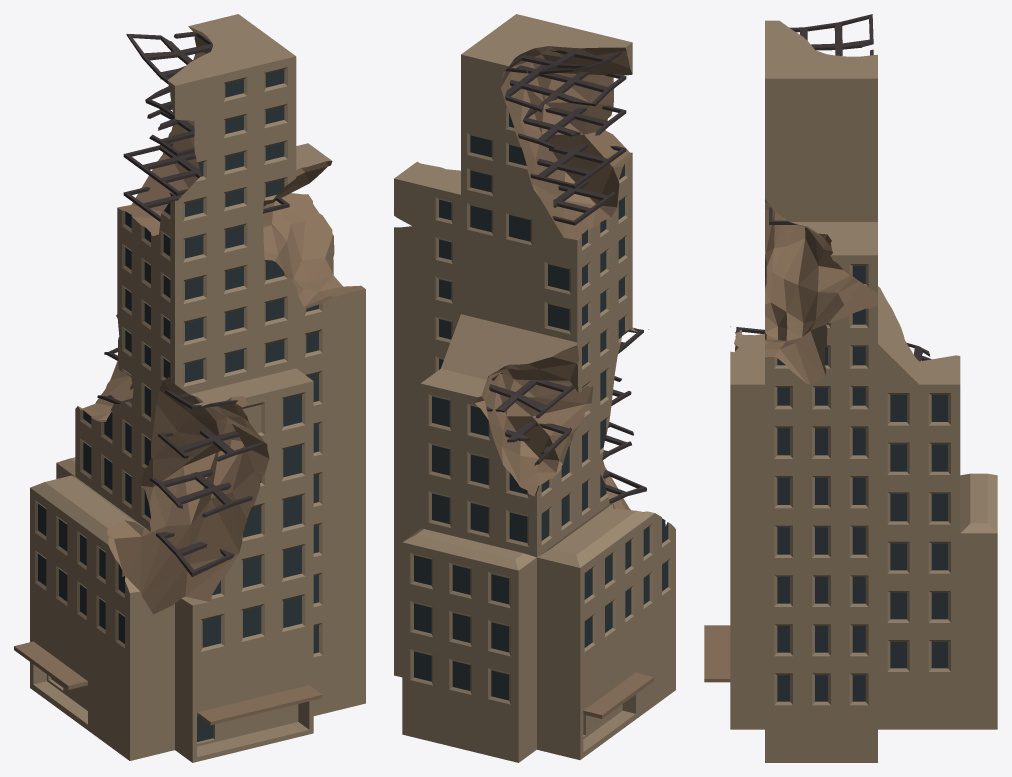
File: LP_PostApoc_BuildingPreset5.fbx
The picture shows the model from 3 angles, left to right: view 1: azimuth 30°, elevation 25°; view 2: azimuth 150°, elevation 25°; view 3: azimuth 270°, elevation 25°; orthographic projection. The views are drawn at different scales.
Parts seen in each view (by area): view 1: BuildingPreset5; view 2: BuildingPreset5; view 3: BuildingPreset5.
Part boxes in pixels (box(x1,y1,x2,y2)): BuildingPreset5: box(14, 14, 365, 762); BuildingPreset5: box(394, 14, 675, 762); BuildingPreset5: box(704, 14, 997, 762).
Bounding box in the file's own units: 1677 × 4229 × 1700.
